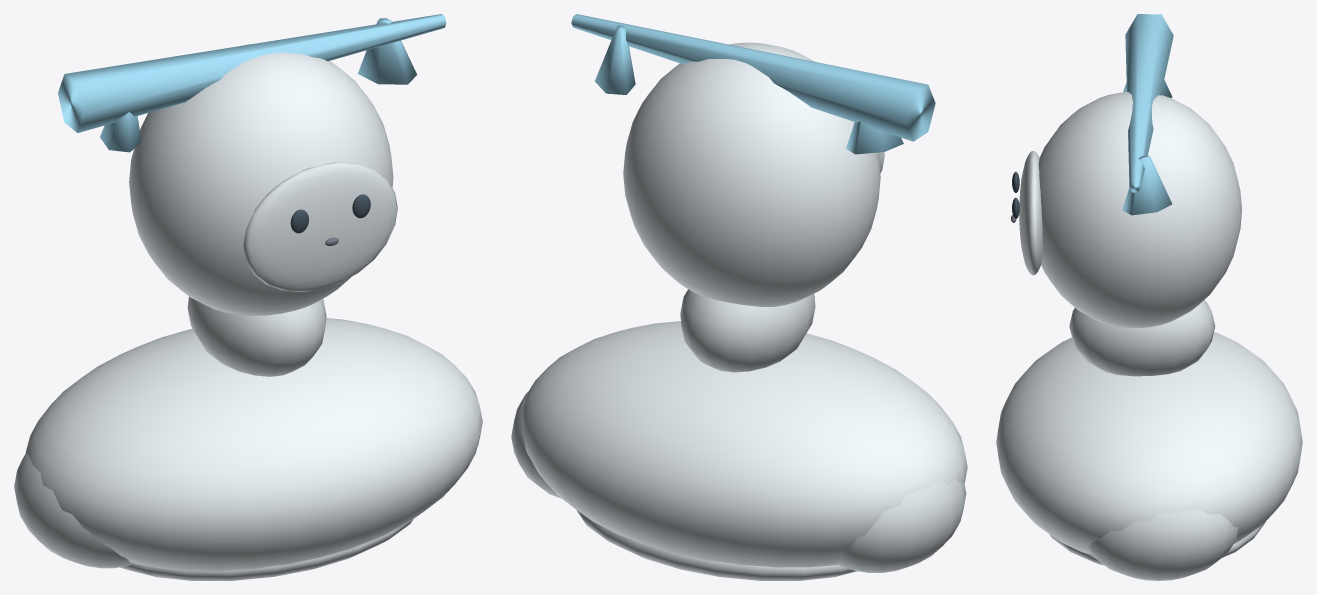
Rendered from snow-statue-guardian.glb.
3 renders of one model, left to right at view 1: azimuth 30°, elevation 25°; view 2: azimuth 150°, elevation 25°; view 3: azimuth 270°, elevation 25°, orthographic. The views are drawn at different scales.
Parts seen in each view (by area): view 1: LowerMass, UpperMass, UpperFacePatch, IceCrest, NeckCore, LowerLobe_L, LowerShadow, CrestTip_R, CrestTip_L; view 2: LowerMass, UpperMass, IceCrest, NeckCore, LowerLobe_L, LowerShadow, CrestTip_R, CrestTip_L, LowerLobe_R; view 3: LowerMass, UpperMass, LowerLobe_R, NeckCore, IceCrest, UpperFacePatch, CrestTip_R, LowerShadow.
Boxes of the visible parts, x1,y1,x2,y2 form: LowerMass: (25,318,482,570); UpperMass: (129,44,393,315); UpperFacePatch: (243,162,397,291); IceCrest: (58,14,446,132); NeckCore: (187,296,326,376); LowerLobe_L: (14,454,134,568); LowerShadow: (120,519,413,580); CrestTip_R: (358,18,416,84); CrestTip_L: (100,112,141,152); LowerMass: (522,321,967,567); UpperMass: (623,42,880,306); IceCrest: (571,14,935,141); NeckCore: (680,289,815,372); LowerLobe_L: (837,478,966,572); LowerShadow: (576,510,856,580); CrestTip_R: (594,25,635,94); CrestTip_L: (846,121,903,154); LowerLobe_R: (511,391,560,498); LowerMass: (996,332,1302,554); UpperMass: (1038,92,1241,327); LowerLobe_R: (1088,510,1237,580); NeckCore: (1069,300,1215,376); IceCrest: (1125,14,1173,192); UpperFacePatch: (1019,151,1042,275); CrestTip_R: (1122,155,1172,215); LowerShadow: (1049,522,1265,565).
Size of the model in its own units: 1.22 by 1.35 by 0.86.
